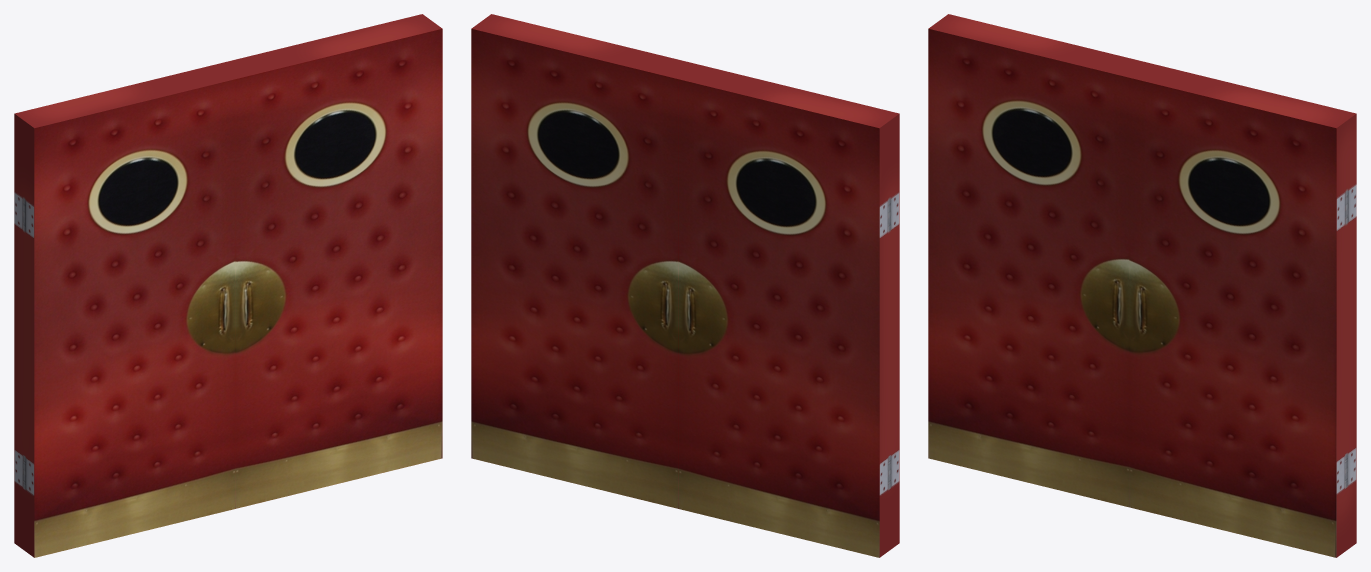
The model's file is Puerta_TH_DC.fbx.
3 views of the same model, side by side, from view 1: azimuth 30°, elevation 25°; view 2: azimuth 150°, elevation 25°; view 3: azimuth 330°, elevation 25° (orthographic).
Parts seen in each view (by area): view 1: Puerta2_TH_DC, Puerta1_TH_DC; view 2: Puerta2_TH_DC, Puerta1_TH_DC; view 3: Puerta1_TH_DC, Puerta2_TH_DC.
Part boxes in pixels (x1=…): Puerta2_TH_DC: x1=14, y1=64, x2=235, y2=557; Puerta1_TH_DC: x1=215, y1=14, x2=442, y2=508; Puerta2_TH_DC: x1=678, y1=64, x2=899, y2=557; Puerta1_TH_DC: x1=471, y1=14, x2=698, y2=508; Puerta1_TH_DC: x1=1129, y1=63, x2=1356, y2=557; Puerta2_TH_DC: x1=928, y1=14, x2=1148, y2=507.
Size of the model in its own units: 448 by 451 by 38.21.
2 materials, 2 textured.
